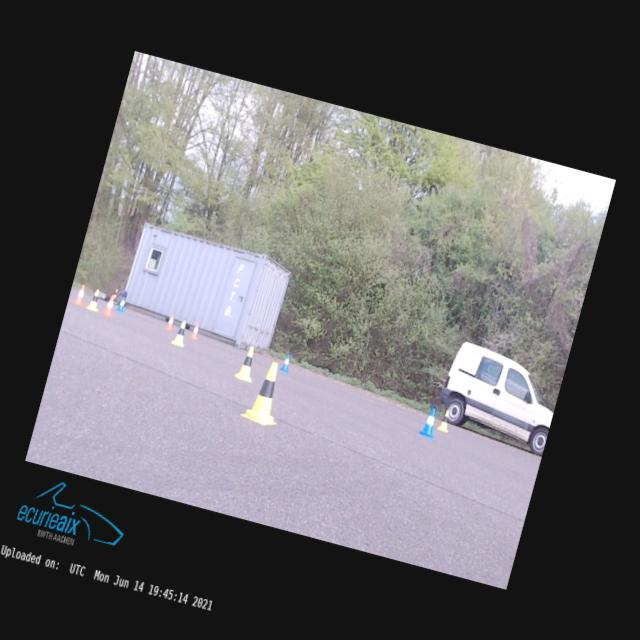blue_cone: (416, 406, 441, 438), (280, 353, 292, 371), (116, 295, 127, 311)
orange_cone: (73, 283, 87, 305), (102, 294, 116, 316), (164, 312, 176, 330), (190, 322, 200, 339)
yellow_cone: (239, 357, 291, 428), (233, 344, 260, 382), (170, 318, 190, 346), (86, 288, 102, 311), (437, 409, 452, 432), (112, 288, 118, 300)
